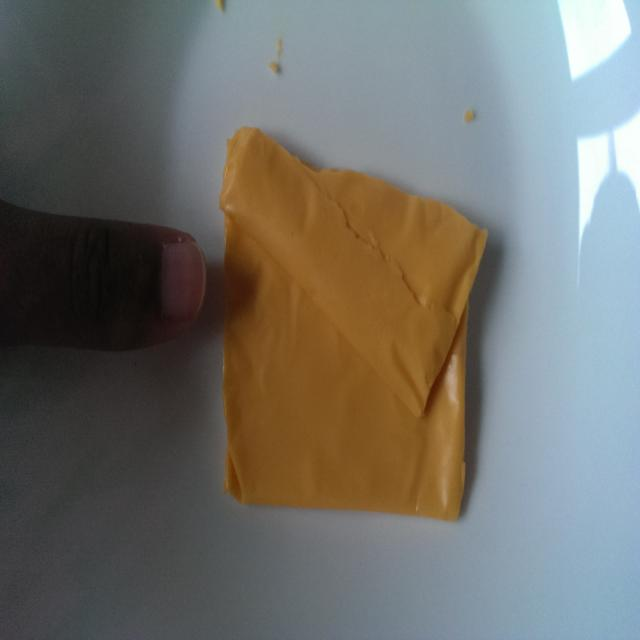cheese: (218, 123, 488, 522)
